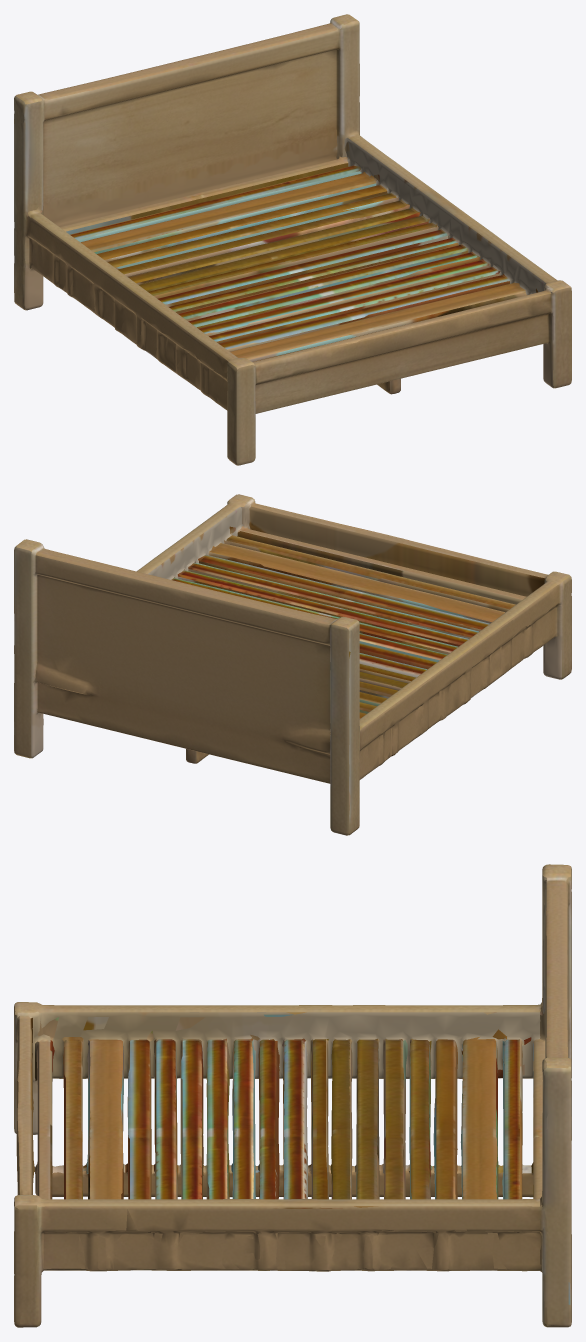
The model's file is bed__bed#5.glb.
3 renders of one model, top to bottom at view 1: azimuth 30°, elevation 25°; view 2: azimuth 150°, elevation 25°; view 3: azimuth 270°, elevation 25°, orthographic. The views are drawn at different scales.
Parts seen in each view (by area): view 1: tmp_70359nz.ply; view 2: tmp_70359nz.ply; view 3: tmp_70359nz.ply.
Part boxes in pixels (x1,y1,x2,y2): tmp_70359nz.ply: (14, 14, 571, 465); tmp_70359nz.ply: (14, 494, 571, 835); tmp_70359nz.ply: (14, 864, 571, 1327).
Size of the model in its own units: 1.73 by 1.03 by 1.99.
1 material, 1 textured.
